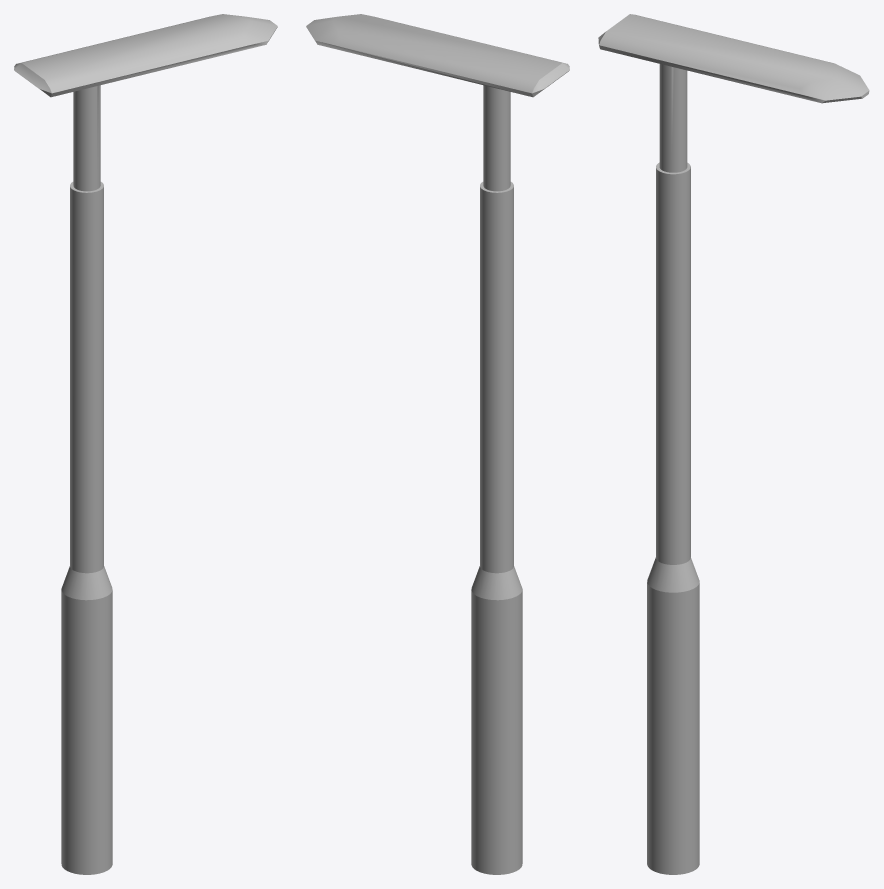
File: StreetLamp.obj
3 views of the same model, side by side, from view 1: azimuth 30°, elevation 25°; view 2: azimuth 150°, elevation 25°; view 3: azimuth 330°, elevation 25° (orthographic). The views are drawn at different scales.
Visible parts, largest first — view 1: StreetLamp; view 2: StreetLamp; view 3: StreetLamp.
Boxes of the visible parts, x1,y1,x2,y2 form: StreetLamp: (14,14,277,874); StreetLamp: (306,14,569,874); StreetLamp: (598,14,869,874).
Bounding box in the file's own units: 1.08 × 3.37 × 0.2834.
Materials: 1 (1 with a texture image).
